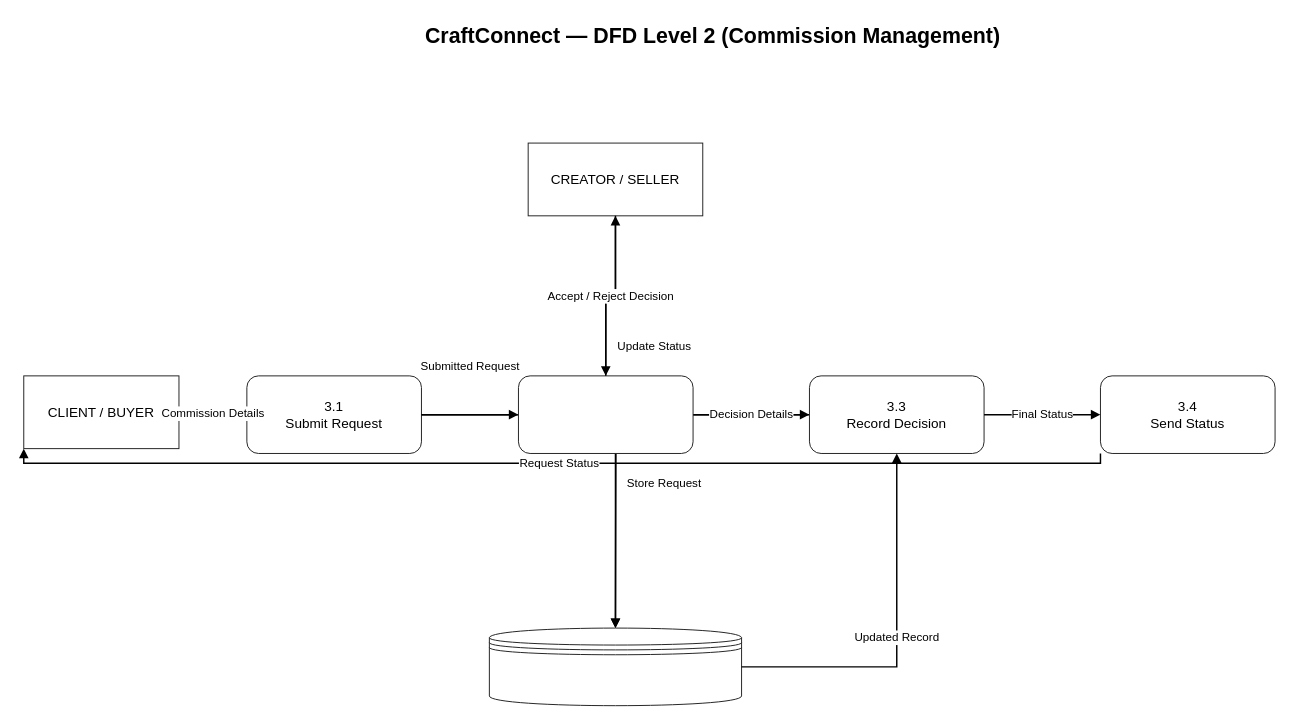
Image size: 1293x723. Some labels were removed from this diagram. Each missing label, with the centre of its shape:
"3.2 Review Request" goes at pixel 605 414.
"D3: Commission Data" goes at pixel 615 666.
